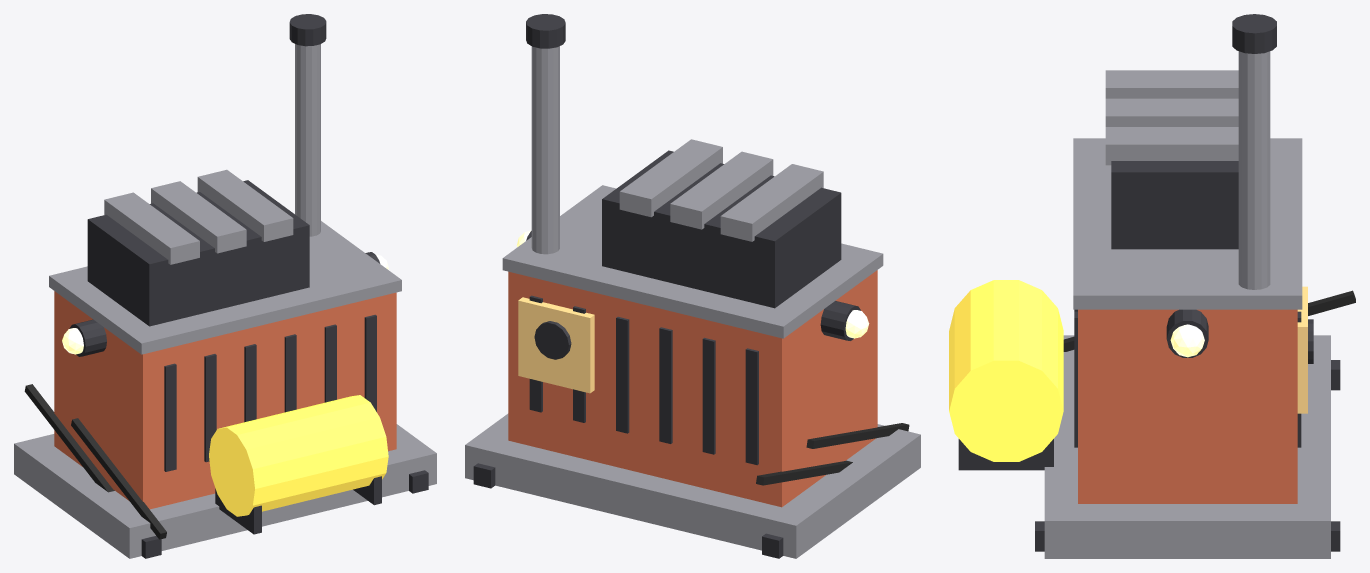
File: gen_body.glb
3 views of the same model, side by side, from view 1: azimuth 30°, elevation 25°; view 2: azimuth 150°, elevation 25°; view 3: azimuth 270°, elevation 25° (orthographic). The views are drawn at different scales.
Parts seen in each view (by area): view 1: geometry_3, geometry_17, geometry_21, geometry_0, geometry_16, geometry_24, geometry_20, geometry_18, geometry_19, geometry_33, geometry_32, geometry_10 (+8 smaller); view 2: geometry_3, geometry_0, geometry_17, geometry_16, geometry_24, geometry_26, geometry_19, geometry_20, geometry_18, geometry_7, geometry_4, geometry_5 (+6 smaller); view 3: geometry_3, geometry_0, geometry_16, geometry_21, geometry_17, geometry_24, geometry_20, geometry_18, geometry_19, geometry_25, geometry_23, geometry_26 (+5 smaller).
Boxes of the visible parts, x1,y1,x2,y2 form: geometry_3: (54,291,396,509); geometry_17: (87,180,309,326); geometry_21: (209,395,388,516); geometry_0: (14,424,436,558); geometry_16: (49,221,401,354); geometry_24: (295,44,320,236); geometry_20: (197,169,293,241); geometry_18: (104,192,199,264); geometry_19: (151,181,246,253); geometry_33: (71,418,166,539); geometry_32: (24,384,114,492); geometry_10: (164,363,176,471); geometry_3: (508,270,877,507); geometry_0: (465,413,920,558); geometry_17: (602,150,841,308); geometry_16: (502,185,883,338); geometry_24: (531,46,559,254); geometry_26: (518,297,594,393); geometry_19: (670,151,773,229); geometry_20: (619,139,722,217); geometry_18: (720,164,823,241); geometry_7: (616,316,629,433); geometry_4: (745,348,758,465); geometry_5: (702,337,715,454); geometry_3: (1078,309,1297,503); geometry_0: (1044,335,1330,558); geometry_16: (1073,138,1302,309); geometry_21: (949,280,1063,461); geometry_17: (1111,161,1238,249); geometry_24: (1238,51,1270,289); geometry_20: (1105,127,1238,165); geometry_18: (1105,70,1238,98); geometry_19: (1105,98,1238,126); geometry_25: (1232,14,1276,53); geometry_23: (958,439,1053,470); geometry_26: (1297,286,1307,413).
Size of the model in its own units: 2.42 by 2.94 by 2.13.
